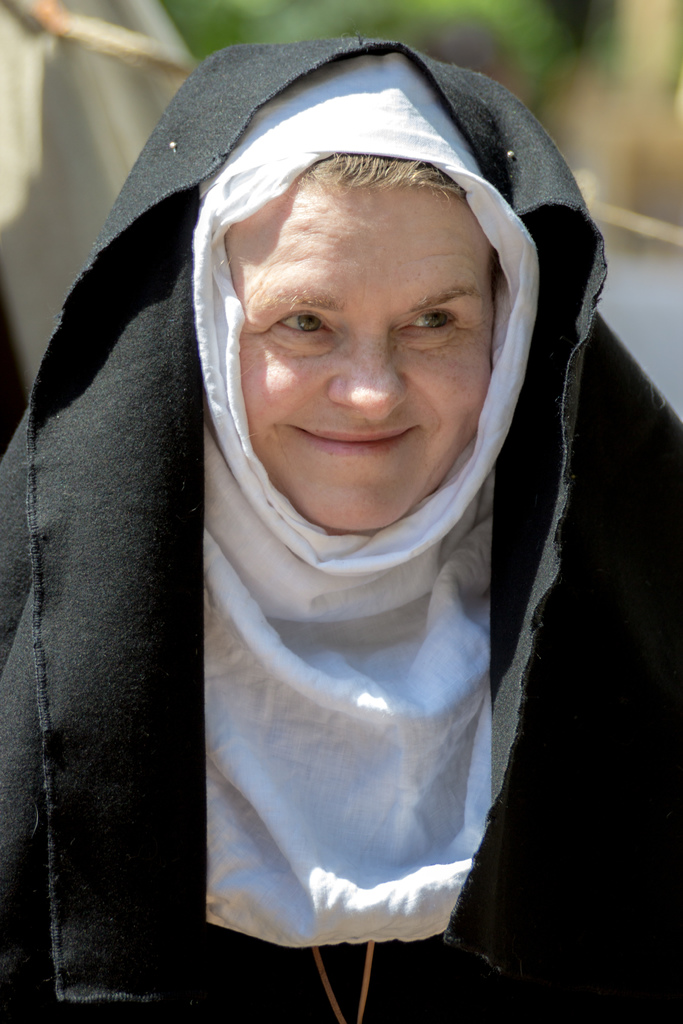Person: (0, 17, 682, 1024)
